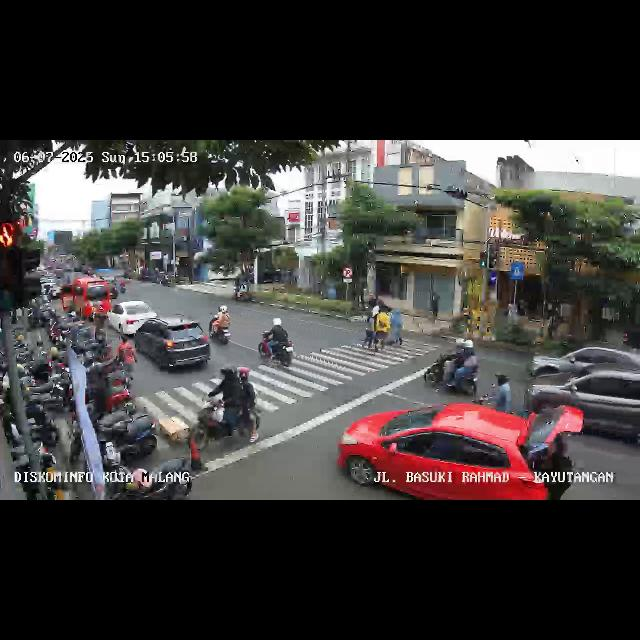car: (337, 402, 575, 500), (522, 371, 640, 445), (135, 316, 217, 372), (526, 342, 640, 376), (60, 278, 110, 320), (106, 300, 158, 338)
motorcycle: (201, 366, 261, 446), (424, 342, 480, 396), (257, 318, 295, 368), (477, 372, 518, 416), (210, 306, 232, 346)
person: (113, 330, 137, 390), (378, 306, 388, 352), (392, 307, 402, 347), (363, 310, 373, 350), (372, 304, 380, 320), (387, 306, 393, 322)
